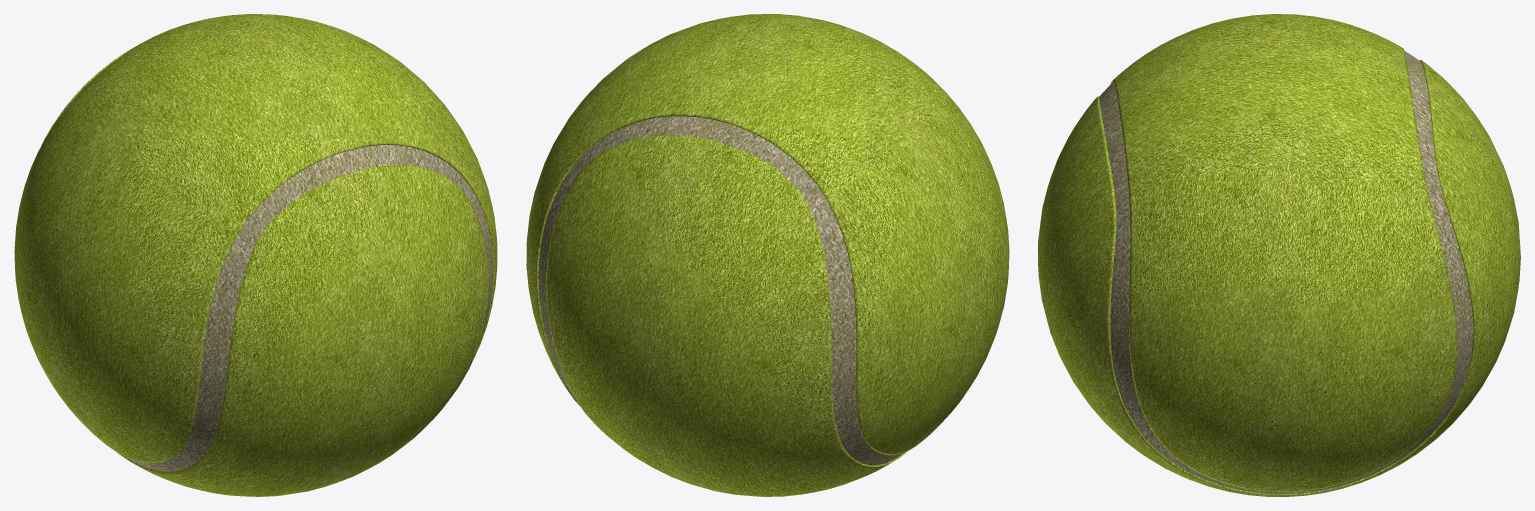
Rendered from ball.glb.
The picture shows the model from 3 angles, left to right: view 1: azimuth 30°, elevation 25°; view 2: azimuth 150°, elevation 25°; view 3: azimuth 270°, elevation 25°; orthographic projection.
Parts seen in each view (by area): view 1: Null_Subdivision_Surface_1, Null_Subdivision_Surface_1_Subdivision_Surface_11_Subdi_a4e8; view 2: Null_Subdivision_Surface_1, Null_Subdivision_Surface_1_Subdivision_Surface_11_Subdi_a4e8; view 3: Null_Subdivision_Surface_1, Null_Subdivision_Surface_1_Subdivision_Surface_11_Subdi_a4e8.
Part boxes in pixels (x1,y1,x2,y2): Null_Subdivision_Surface_1: (14,14,497,496); Null_Subdivision_Surface_1_Subdivision_Surface_11_Subdi_a4e8: (125,145,493,471); Null_Subdivision_Surface_1: (526,14,1009,496); Null_Subdivision_Surface_1_Subdivision_Surface_11_Subdi_a4e8: (538,116,904,465); Null_Subdivision_Surface_1: (1038,14,1520,496); Null_Subdivision_Surface_1_Subdivision_Surface_11_Subdi_a4e8: (1099,51,1472,493).
Bounding box in the file's own units: 2.3 × 2.3 × 2.3.
Materials: 2 (2 with a texture image).
